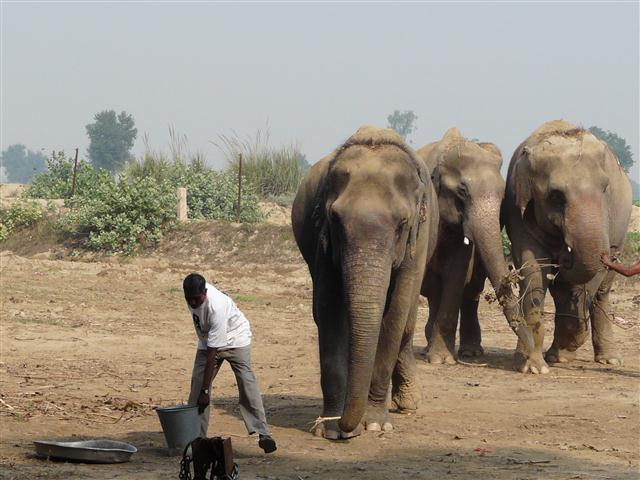elephant: (283, 120, 449, 442), (500, 106, 636, 383), (411, 121, 540, 388)
